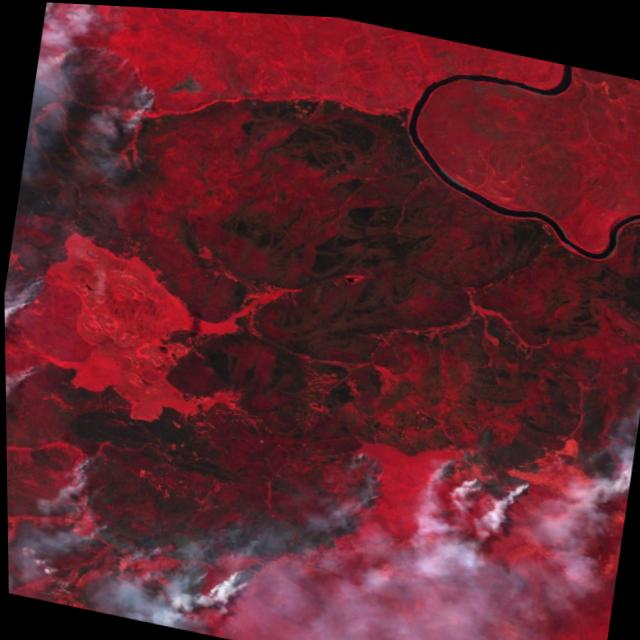fire: (317, 367, 638, 586), (25, 446, 279, 637), (30, 1, 190, 131), (3, 261, 61, 389)
